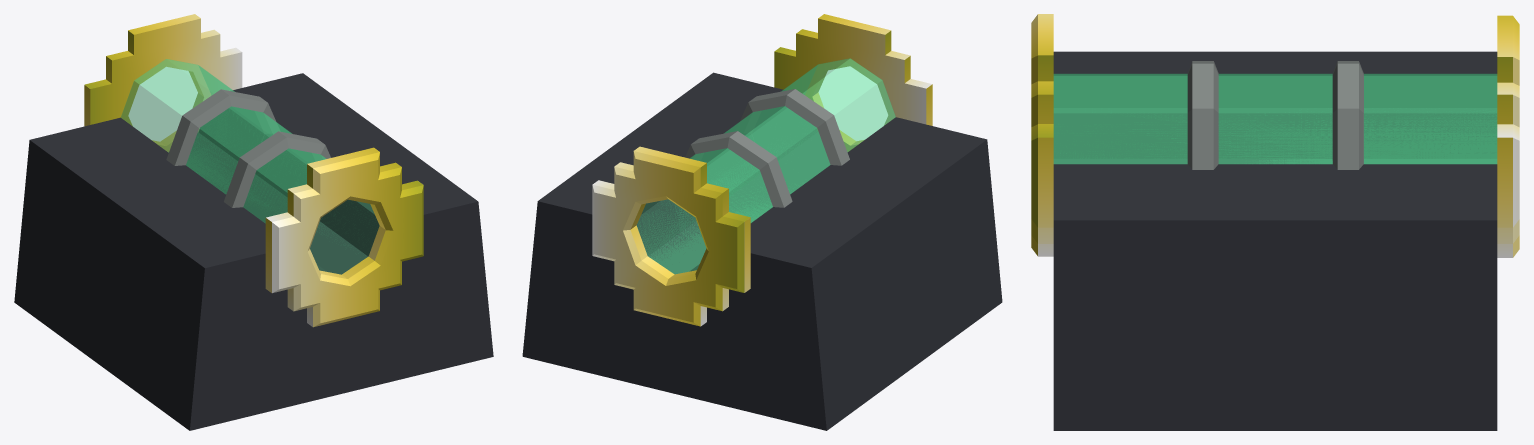
File: OneWay.glb
The picture shows the model from 3 angles, left to right: view 1: azimuth 30°, elevation 25°; view 2: azimuth 150°, elevation 25°; view 3: azimuth 270°, elevation 25°; orthographic projection. The views are drawn at different scales.
Visible parts, largest first — view 1: Base.002, Chakana.001, Tuberia, Chakana, Tuberia.001, Tuberia.002; view 2: Base.002, Chakana, Tuberia, Chakana.001, Tuberia.002, Tuberia.001; view 3: Base.002, Tuberia, Chakana, Chakana.001, Tuberia.002, Tuberia.001.
Boxes of the visible parts, x1,y1,x2,y2 form: Base.002: (14, 73, 493, 430); Chakana.001: (265, 147, 423, 327); Tuberia: (121, 59, 379, 274); Chakana: (84, 14, 242, 152); Tuberia.001: (166, 89, 279, 165); Tuberia.002: (224, 131, 330, 207); Base.002: (522, 72, 1002, 430); Chakana: (592, 146, 750, 326); Tuberia: (637, 58, 895, 274); Chakana.001: (774, 14, 932, 151); Tuberia.002: (736, 89, 849, 165); Tuberia.001: (685, 131, 792, 207); Base.002: (1053, 51, 1497, 430); Tuberia: (1053, 73, 1497, 164); Chakana: (1497, 15, 1519, 257); Chakana.001: (1031, 14, 1053, 256); Tuberia.002: (1187, 61, 1218, 169); Tuberia.001: (1332, 61, 1363, 169).
Size of the model in its own units: 1 by 0.75 by 1.1.
4 materials, 2 textured.
